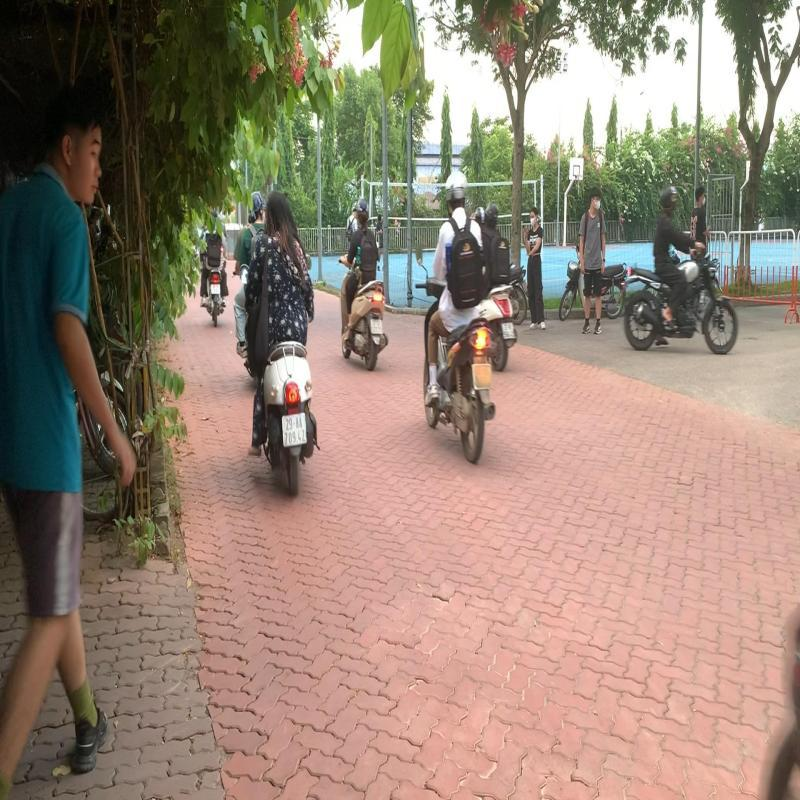nohelmet: (262, 183, 296, 237)
